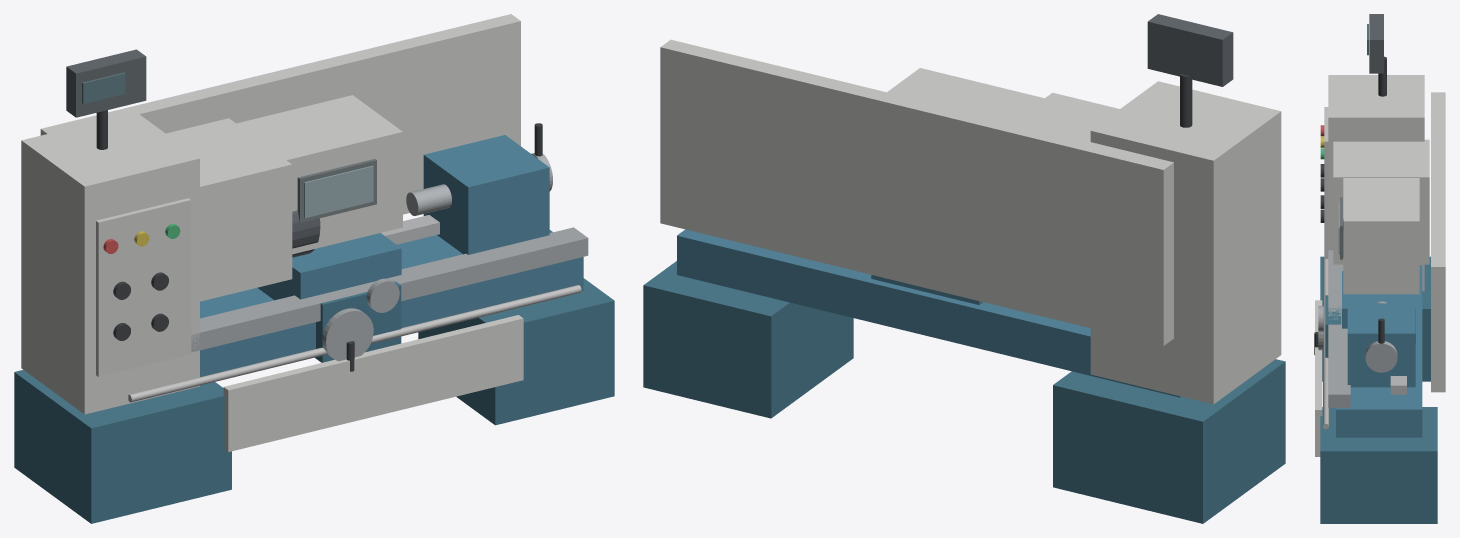
File: romi_t240_modelo_3d.glb
The picture shows the model from 3 angles, left to right: view 1: azimuth 30°, elevation 25°; view 2: azimuth 150°, elevation 25°; view 3: azimuth 270°, elevation 25°; orthographic projection. The views are drawn at different scales.
Visible parts, largest first — view 1: left_control_cabinet, rear_guard_white, base_left_blue, lower_front_white_panel, headstock_upper_white, control_panel_face, base_right_blue, white_safety_cover, tailstock_blue, bed_blue_support, front_bed_rail, carriage_blue (+11 smaller); view 2: rear_guard_white, left_control_cabinet, base_left_blue, base_right_blue, bed_blue_support, digital_readout, white_safety_cover, headstock_upper_white; view 3: base_right_blue, white_safety_cover, left_control_cabinet, headstock_upper_white, bed_blue_support, tailstock_blue, rear_guard_white, front_bed_rail, base_left_blue, carriage_blue, lower_front_white_panel, digital_readout (+8 smaller).
Part boxes in pixels (left/top/right/bottom): left_control_cabinet: left=21, top=112, right=199, bottom=414; rear_guard_white: left=40, top=14, right=520, bottom=214; base_left_blue: left=14, top=370, right=231, bottom=523; lower_front_white_panel: left=223, top=315, right=523, bottom=451; headstock_upper_white: left=166, top=118, right=292, bottom=301; control_panel_face: left=96, top=198, right=191, bottom=376; base_right_blue: left=418, top=278, right=614, bottom=425; white_safety_cover: left=236, top=95, right=402, bottom=254; tailstock_blue: left=423, top=135, right=549, bottom=254; bed_blue_support: left=200, top=230, right=583, bottom=376; front_bed_rail: left=191, top=227, right=588, bottom=352; carriage_blue: left=257, top=233, right=401, bottom=300; rear_guard_white: left=660, top=39, right=1173, bottom=345; left_control_cabinet: left=1090, top=81, right=1281, bottom=404; base_left_blue: left=1053, top=359, right=1285, bottom=523; base_right_blue: left=643, top=261, right=853, bottom=418; bed_blue_support: left=677, top=229, right=1180, bottom=397; digital_readout: left=1147, top=14, right=1233, bottom=86; white_safety_cover: left=887, top=68, right=1044, bottom=122; headstock_upper_white: left=1011, top=92, right=1119, bottom=141; base_right_blue: left=1320, top=407, right=1437, bottom=523; white_safety_cover: left=1343, top=178, right=1419, bottom=294; left_control_cabinet: left=1328, top=75, right=1424, bottom=291; headstock_upper_white: left=1333, top=139, right=1429, bottom=264; bed_blue_support: left=1336, top=265, right=1422, bottom=437; tailstock_blue: left=1347, top=303, right=1415, bottom=387; rear_guard_white: left=1431, top=92, right=1445, bottom=392; front_bed_rail: left=1328, top=250, right=1350, bottom=407; base_left_blue: left=1320, top=256, right=1430, bottom=381; carriage_blue: left=1342, top=271, right=1415, bottom=343; lower_front_white_panel: left=1315, top=300, right=1322, bottom=456; digital_readout: left=1369, top=14, right=1383, bottom=73.
Size of the model in its own units: 3.74 by 2.93 by 1.06.
